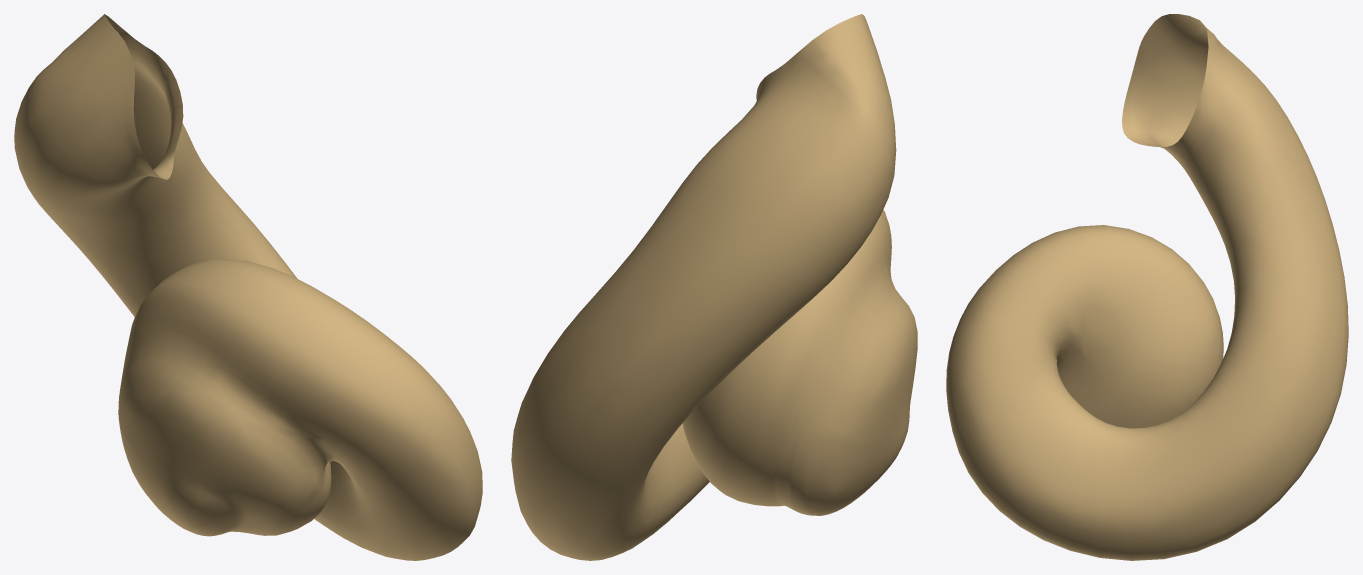
3 renders of one model, left to right at view 1: azimuth 30°, elevation 25°; view 2: azimuth 150°, elevation 25°; view 3: azimuth 270°, elevation 25°, orthographic. The views are drawn at different scales.
Visible parts, largest first — view 1: 右侧耳蜗; view 2: 右侧耳蜗; view 3: 右侧耳蜗.
Part boxes in pixels (x1=…): 右侧耳蜗: x1=14, y1=14, x2=482, y2=560; 右侧耳蜗: x1=511, y1=14, x2=917, y2=560; 右侧耳蜗: x1=946, y1=14, x2=1348, y2=560.
Bounding box in the file's own units: 0.00948 × 0.0145 × 0.0118.
